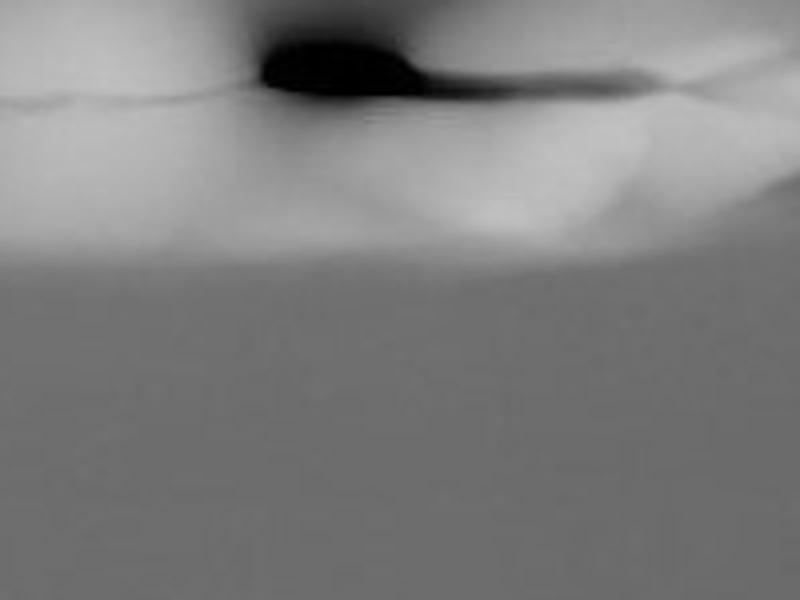defect: (261, 40, 435, 104)
